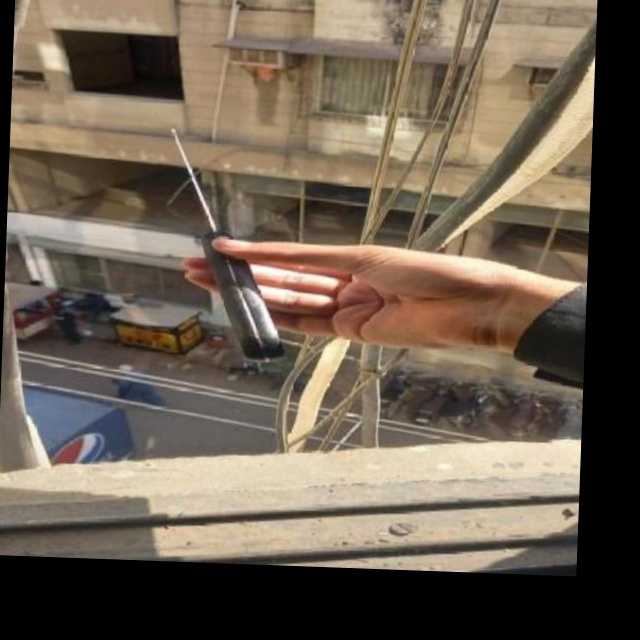Sharp-Object: (165, 129, 292, 361)
